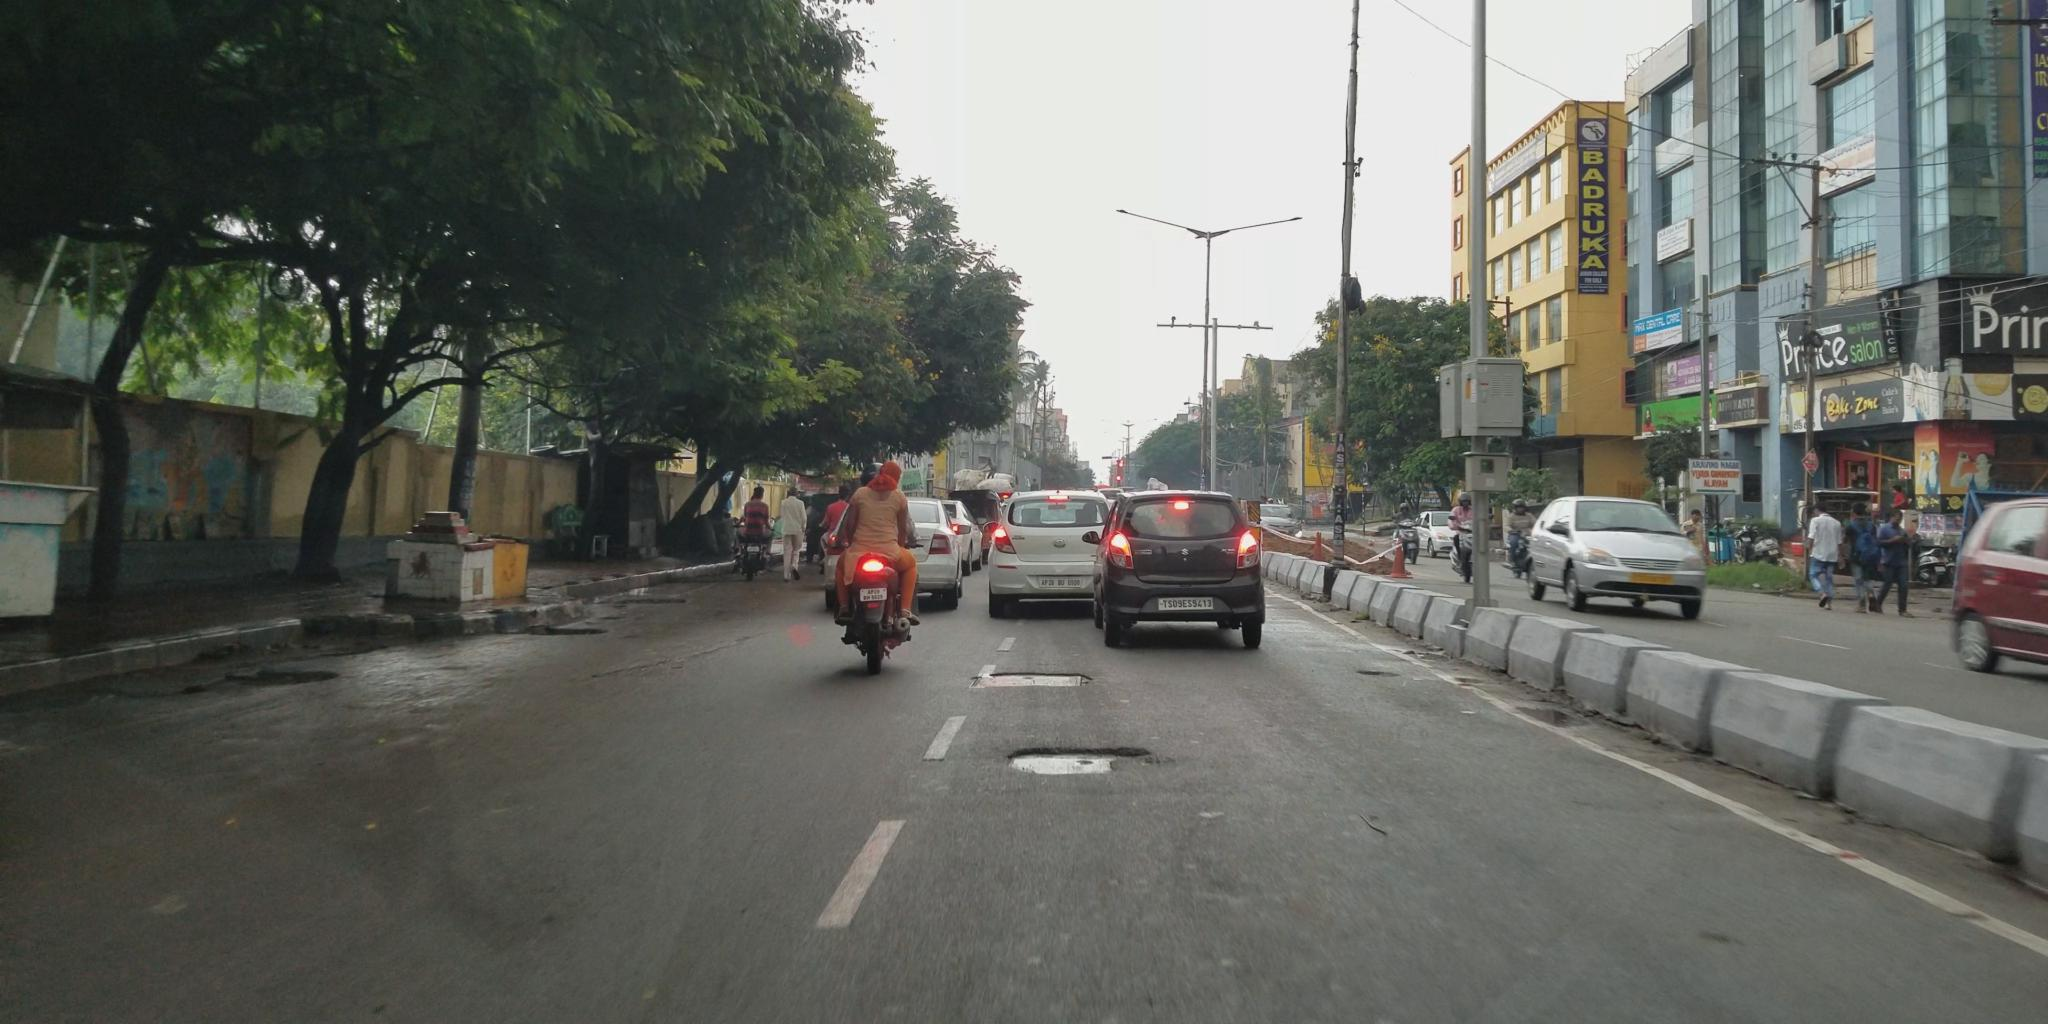off: (0, 31, 1772, 1024)
